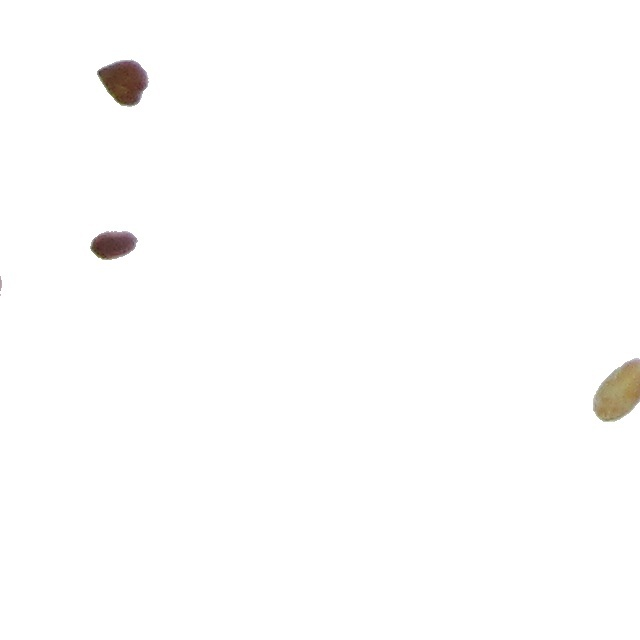buckwheat: (96, 58, 150, 108), (89, 230, 139, 261)
other: (592, 357, 640, 423)
